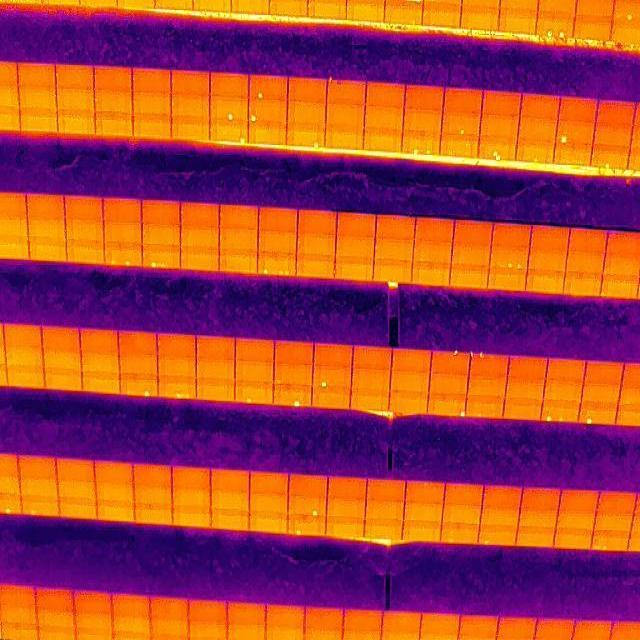Cell: (249, 75, 288, 101), (274, 385, 313, 409), (555, 123, 596, 145), (431, 351, 470, 374), (313, 366, 352, 389), (427, 394, 466, 416), (209, 99, 248, 121), (235, 383, 273, 405), (210, 121, 249, 142), (22, 495, 61, 516), (248, 101, 287, 122), (442, 114, 481, 135), (593, 145, 630, 167), (578, 405, 617, 425), (478, 525, 517, 545), (287, 126, 325, 146), (288, 496, 326, 516), (440, 525, 479, 544), (121, 378, 158, 398), (288, 516, 326, 535)
Cell-Multi: (537, 12, 574, 38), (402, 131, 441, 154), (490, 246, 529, 269), (541, 401, 579, 424), (142, 245, 181, 267), (258, 254, 296, 276), (470, 354, 508, 376), (590, 532, 631, 552), (105, 244, 143, 265), (157, 378, 196, 398), (478, 139, 516, 159)
No-Anomaly: (366, 81, 405, 108), (297, 209, 337, 235), (327, 78, 367, 104), (443, 88, 483, 114), (142, 198, 181, 224), (337, 212, 376, 238), (266, 606, 305, 632), (18, 62, 56, 88), (507, 355, 548, 379), (573, 13, 612, 38), (56, 65, 95, 90), (492, 222, 529, 248), (570, 228, 607, 254), (406, 86, 443, 112), (453, 220, 493, 244), (325, 104, 365, 128), (289, 472, 327, 497), (94, 65, 132, 90), (458, 617, 499, 640), (220, 205, 259, 229), (376, 215, 415, 239), (530, 225, 569, 249), (219, 250, 258, 274), (600, 275, 639, 299), (196, 336, 235, 360), (235, 338, 274, 362), (353, 346, 392, 370), (6, 364, 45, 388), (304, 608, 343, 632), (171, 72, 210, 96), (210, 74, 249, 98), (133, 91, 172, 115), (390, 371, 430, 394), (496, 617, 536, 640), (558, 99, 598, 122), (518, 118, 556, 142), (461, 5, 499, 29), (498, 8, 536, 32), (181, 202, 219, 226), (259, 208, 297, 232), (415, 218, 453, 242), (67, 240, 105, 264), (564, 272, 602, 296), (44, 368, 82, 392), (189, 600, 227, 624), (0, 608, 38, 632), (288, 78, 326, 102), (171, 95, 209, 119), (288, 102, 326, 126), (479, 116, 520, 138), (381, 612, 422, 634), (482, 486, 521, 509), (18, 88, 57, 111), (520, 96, 559, 119), (19, 109, 58, 132), (423, 1, 460, 25), (483, 94, 520, 118), (386, 1, 423, 25), (593, 123, 633, 145), (597, 493, 637, 515), (596, 100, 636, 122), (104, 221, 142, 244), (414, 241, 452, 264), (120, 356, 158, 379), (173, 466, 211, 489), (36, 611, 74, 634), (94, 91, 132, 114), (58, 111, 96, 134), (514, 525, 555, 546), (419, 614, 460, 635), (133, 115, 172, 137), (66, 218, 105, 240), (526, 270, 565, 292), (119, 333, 158, 355), (275, 344, 314, 366), (314, 345, 353, 367), (392, 349, 431, 371), (81, 350, 120, 372), (352, 369, 391, 391), (430, 373, 469, 395), (196, 379, 235, 401), (581, 383, 620, 405), (350, 389, 389, 411), (211, 468, 250, 490), (250, 470, 289, 492), (366, 478, 405, 500), (250, 492, 289, 514), (73, 593, 112, 615), (112, 595, 151, 617), (133, 69, 172, 91), (365, 108, 404, 130), (585, 361, 622, 384), (80, 329, 120, 350), (521, 488, 563, 508), (364, 130, 402, 152), (27, 195, 65, 217), (65, 196, 103, 218), (104, 199, 142, 221), (142, 224, 180, 246), (566, 252, 604, 274), (412, 263, 450, 285), (157, 334, 195, 356), (468, 375, 506, 397), (506, 379, 544, 401), (544, 380, 582, 402), (312, 388, 350, 410), (227, 605, 265, 627), (404, 109, 442, 131), (606, 230, 639, 255), (219, 229, 258, 250), (375, 239, 414, 260), (180, 249, 219, 270), (529, 249, 568, 270), (450, 265, 489, 286), (4, 324, 43, 345), (42, 347, 81, 368), (82, 372, 121, 393), (19, 457, 58, 478), (327, 477, 366, 498), (35, 590, 74, 611), (343, 610, 382, 631), (533, 621, 576, 640), (95, 114, 132, 136), (30, 239, 67, 261), (603, 254, 640, 276), (548, 358, 585, 380), (440, 135, 480, 155), (336, 238, 376, 258), (296, 258, 336, 278), (326, 498, 366, 518), (365, 500, 405, 520), (518, 508, 558, 528), (172, 119, 210, 140), (249, 124, 287, 145), (452, 244, 490, 265), (335, 259, 373, 280), (489, 269, 527, 290), (560, 489, 598, 510), (75, 615, 113, 636), (57, 90, 95, 111), (180, 228, 219, 248), (258, 232, 297, 252), (297, 236, 336, 256), (374, 261, 413, 281), (158, 358, 197, 378), (235, 362, 274, 382), (389, 392, 428, 412), (95, 462, 134, 482), (134, 466, 173, 486), (20, 478, 59, 498), (96, 482, 135, 502), (405, 482, 444, 502), (211, 490, 250, 510), (59, 499, 98, 519), (405, 502, 444, 522), (442, 504, 481, 524), (211, 511, 250, 531), (593, 512, 632, 532), (250, 514, 289, 534), (402, 522, 441, 542), (151, 598, 190, 618), (112, 618, 151, 638), (150, 620, 189, 640), (572, 621, 613, 640), (58, 459, 95, 480), (347, 0, 384, 21), (326, 128, 364, 148), (554, 145, 592, 165), (28, 218, 66, 238), (42, 326, 80, 346), (503, 400, 541, 420), (445, 484, 483, 504), (98, 502, 136, 522), (173, 506, 211, 526), (326, 518, 364, 538), (554, 529, 592, 549), (516, 141, 555, 160), (5, 345, 44, 364), (196, 360, 235, 379), (57, 480, 96, 499), (467, 398, 504, 418), (136, 505, 173, 525), (557, 510, 594, 530), (0, 589, 37, 609), (135, 486, 173, 505), (173, 488, 211, 507), (363, 520, 403, 538), (274, 366, 313, 384), (481, 507, 520, 525)
